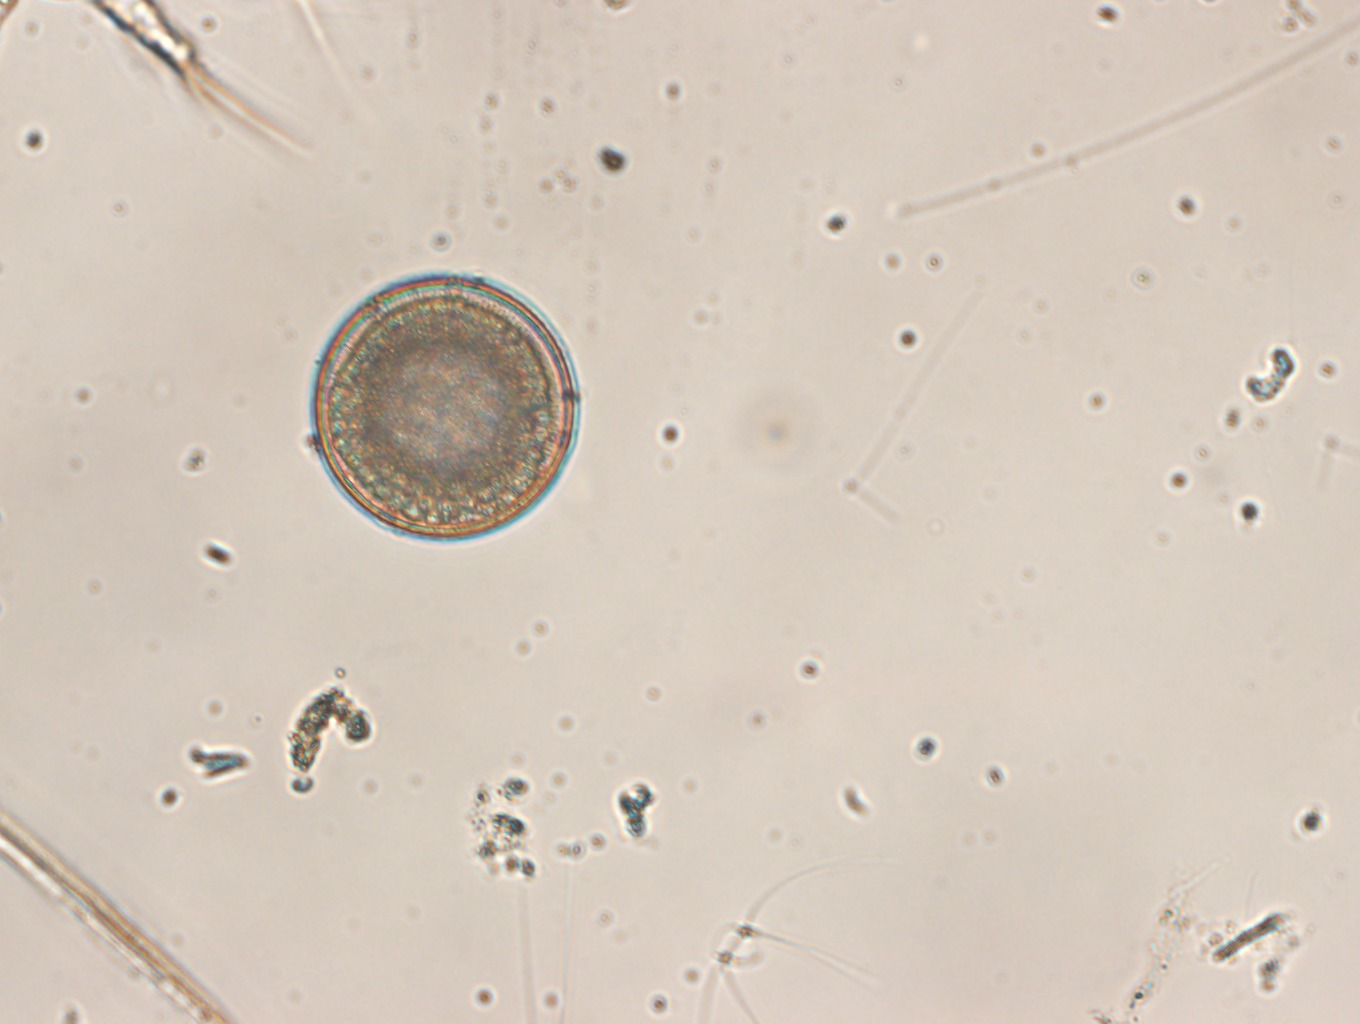chaetoceros: (682, 862, 864, 1024)
coscinodiscus: (300, 269, 595, 552)
